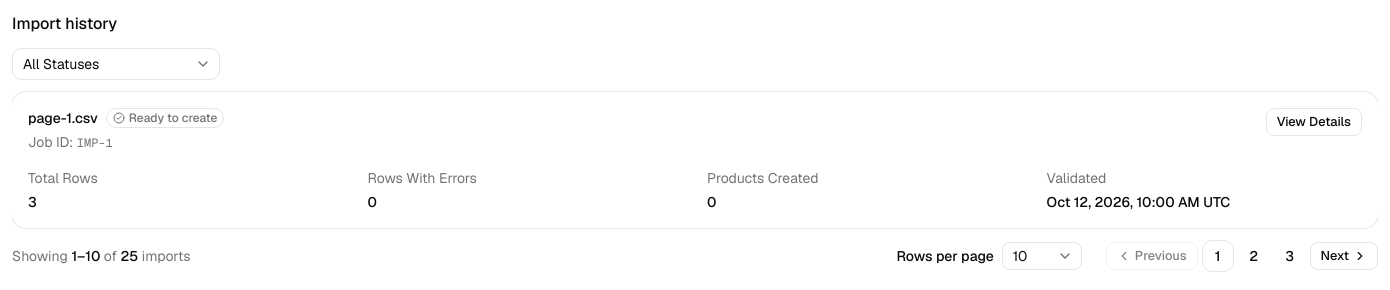
ImportHistory › pages through the history
Expected: the heading "page-1.csv" is shown, [28, 108, 98, 128]
Click the button with aria-label "Go to next page" at (1344, 256), box [1310, 242, 1378, 270]
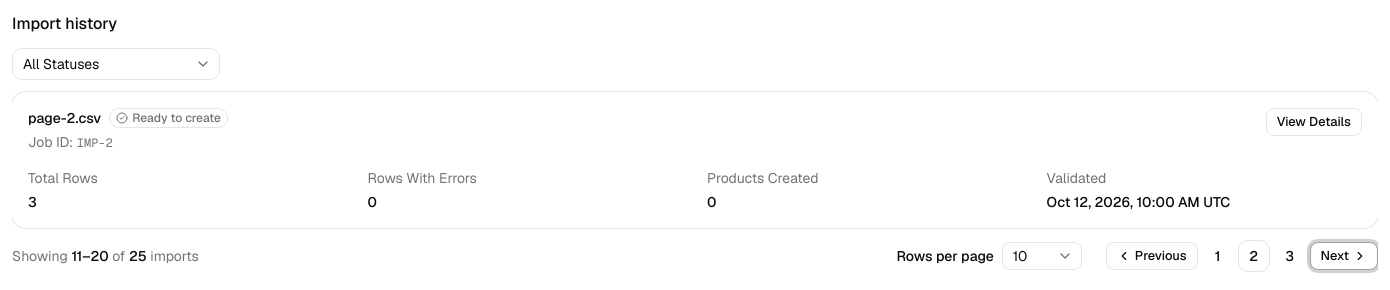
Now the heading "page-2.csv" is shown, box [28, 108, 101, 128]
